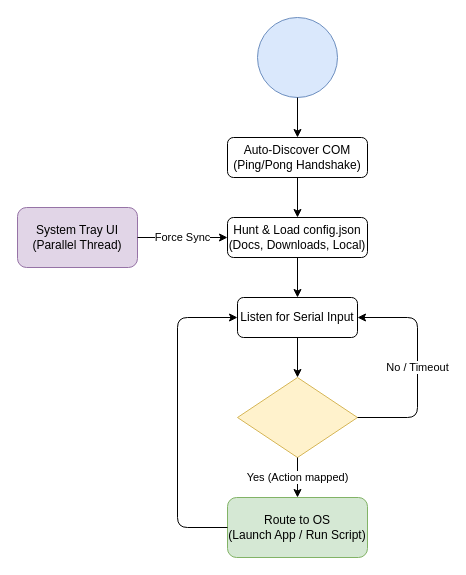
Image size: 466x575. Some labels were removed from this diagram. The shapes that lost their labels are listed below. From the top down, each one's centre as x and y in pixels, then its label:
At pixel 297 57: "START DAEMON".
At pixel 297 417: "Valid Command? (e.g., L3:C0R1)".
